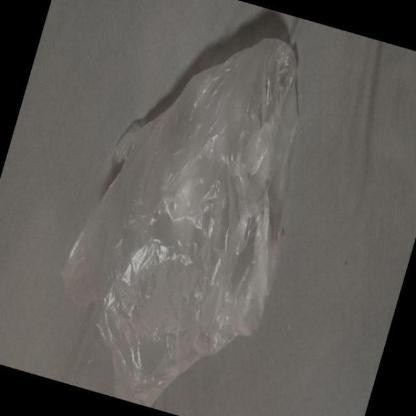Plastic Bag: (63, 42, 302, 410)
